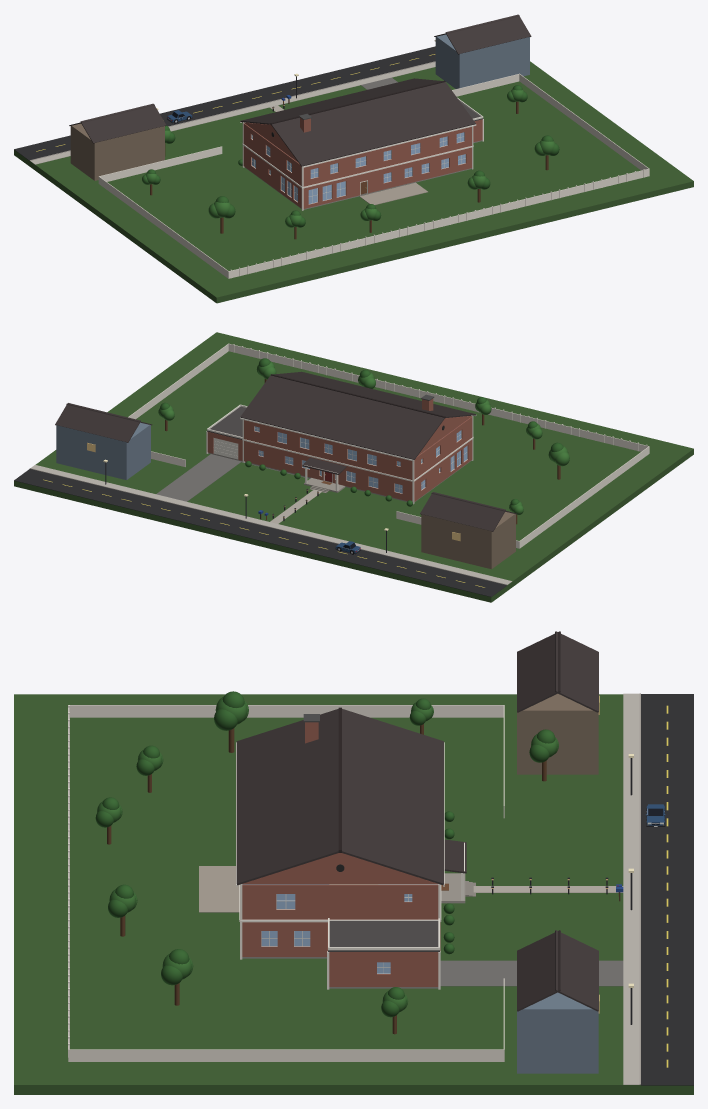
Rendered from house.gltf.
The picture shows the model from 3 angles, top to bottom: view 1: azimuth 30°, elevation 25°; view 2: azimuth 150°, elevation 25°; view 3: azimuth 270°, elevation 25°; orthographic projection. The views are drawn at different scales.
Parts seen in each view (by area): view 1: Ground (×4), Roof (×2), Fence (×5), NeighborHouse (×2), Street, NeighborRoof (×2), Sidewalk, Patio; view 2: Ground (×4), Roof (×2), Street, NeighborHouse (×2), Fence (×3), NeighborRoof (×2), Sidewalk, Driveway, Curb, GarageRoof; view 3: Ground (×4), Roof (×2), Street, NeighborHouse (×2), Brick (×8), Fence (×2), NeighborRoof (×4), Sidewalk, RoofGable (×2), GarageRoof, Driveway, Patio (+3 smaller).
Boxes of the visible parts, x1=… form: Ground (×4): x1=14, y1=61, x2=693, y2=303; Roof (×2): x1=240, y1=78, x2=475, y2=166; Fence (×5): x1=98, y1=73, x2=649, y2=278; NeighborHouse (×2): x1=70, y1=34, x2=529, y2=180; Street: x1=14, y1=46, x2=435, y2=160; NeighborRoof (×2): x1=80, y1=14, x2=531, y2=143; Sidewalk: x1=30, y1=62, x2=435, y2=164; Patio: x1=359, y1=182, x2=427, y2=204; Ground (×4): x1=14, y1=332, x2=693, y2=602; Roof (×2): x1=240, y1=371, x2=475, y2=459; Street: x1=14, y1=469, x2=506, y2=597; NeighborHouse (×2): x1=56, y1=422, x2=515, y2=569; Fence (×3): x1=128, y1=343, x2=649, y2=548; NeighborRoof (×2): x1=55, y1=403, x2=505, y2=531; Sidewalk: x1=31, y1=465, x2=512, y2=584; Driveway: x1=156, y1=454, x2=241, y2=501; Curb: x1=29, y1=468, x2=507, y2=585; GarageRoof: x1=207, y1=406, x2=246, y2=439; Ground (×4): x1=14, y1=694, x2=693, y2=1094; Roof (×2): x1=236, y1=709, x2=443, y2=885; Street: x1=641, y1=694, x2=693, y2=1085; NeighborHouse (×2): x1=517, y1=693, x2=598, y2=1073; Brick (×8): x1=242, y1=884, x2=438, y2=986; Fence (×2): x1=68, y1=705, x2=503, y2=1061; NeighborRoof (×4): x1=517, y1=631, x2=598, y2=1011; Sidewalk: x1=623, y1=693, x2=639, y2=1084; RoofGable (×2): x1=242, y1=853, x2=437, y2=883; GarageRoof: x1=328, y1=921, x2=439, y2=951; Driveway: x1=440, y1=960, x2=623, y2=986; Patio: x1=199, y1=866, x2=239, y2=912.
Size of the model in its own units: 340 by 64.8 by 250.
